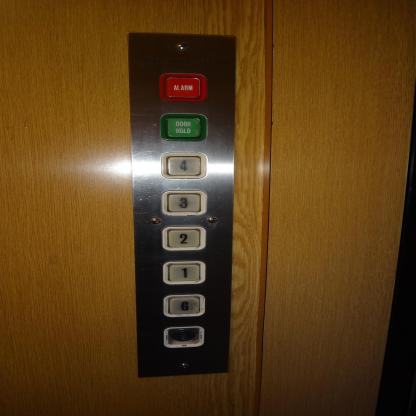1: (162, 259, 207, 286)
2: (160, 224, 207, 252)
3: (160, 188, 207, 217)
4: (160, 152, 208, 180)
G: (163, 292, 207, 318)
bt_keyhole: (162, 324, 206, 350)
text_alarm bell: (159, 71, 208, 102)
text_door open: (159, 111, 209, 143)
